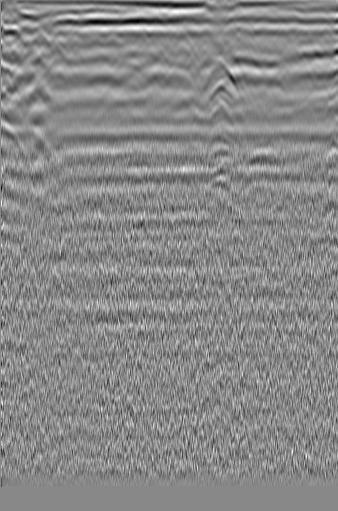가스: (203, 130, 240, 169)
상수: (23, 30, 55, 57)
오수: (278, 32, 307, 66)
우수: (150, 42, 178, 65)
